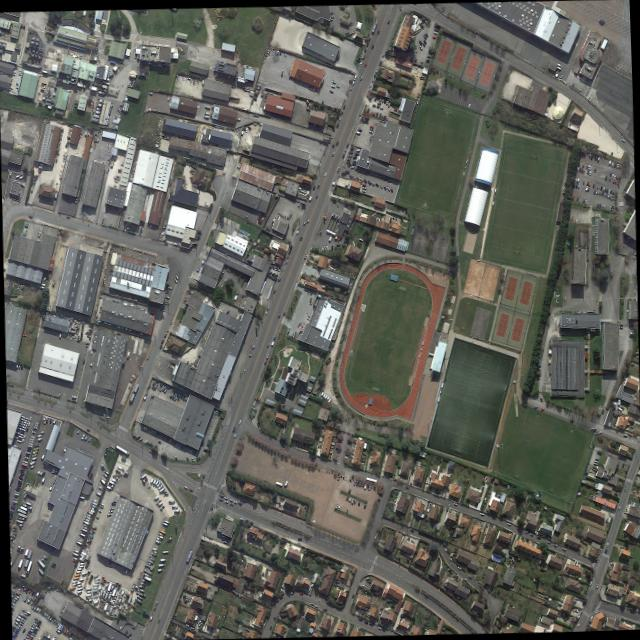large-vehicle: (113, 443, 128, 454), (82, 568, 89, 587), (130, 602, 140, 613), (133, 595, 142, 604), (364, 475, 376, 481), (185, 549, 191, 561), (370, 20, 376, 31), (109, 603, 115, 614), (102, 589, 108, 600), (36, 558, 43, 567), (134, 589, 144, 595), (106, 579, 111, 590), (16, 511, 25, 517), (16, 507, 25, 513), (142, 567, 151, 573), (105, 590, 111, 599), (108, 581, 114, 590), (26, 547, 31, 557), (126, 592, 131, 602), (113, 604, 118, 614), (105, 599, 110, 609), (134, 577, 139, 587), (103, 578, 108, 588), (115, 581, 120, 591), (100, 587, 105, 597), (114, 467, 121, 474), (141, 578, 149, 584), (23, 546, 28, 555), (128, 392, 133, 401), (110, 586, 115, 595), (107, 604, 112, 613), (116, 594, 121, 603), (129, 581, 134, 590), (98, 476, 104, 483), (15, 517, 22, 523), (17, 557, 21, 567), (102, 601, 107, 609), (18, 545, 23, 553), (139, 472, 145, 478), (139, 580, 145, 586), (138, 583, 144, 589), (135, 593, 141, 599), (98, 587, 102, 596), (146, 557, 152, 563), (121, 470, 127, 476), (79, 526, 86, 531), (74, 539, 81, 544), (16, 514, 23, 519), (22, 593, 27, 600), (326, 395, 331, 402), (167, 497, 174, 502), (116, 464, 123, 469), (137, 587, 144, 592), (170, 502, 177, 507), (41, 553, 46, 560), (98, 597, 102, 605), (99, 574, 103, 582), (117, 602, 121, 610), (15, 543, 19, 551), (37, 567, 42, 573), (28, 459, 34, 464), (152, 494, 158, 499), (158, 486, 164, 491), (157, 482, 162, 488), (155, 480, 160, 486), (153, 478, 158, 484), (151, 477, 156, 483), (108, 479, 114, 484), (105, 484, 111, 489), (49, 466, 54, 472), (143, 562, 149, 567), (40, 557, 45, 563), (89, 500, 96, 504), (85, 509, 92, 513), (81, 519, 88, 523), (77, 531, 84, 535), (70, 551, 77, 555), (23, 500, 30, 504), (307, 194, 311, 201), (360, 51, 364, 58), (120, 603, 124, 610), (84, 591, 91, 595), (122, 589, 126, 596), (113, 579, 117, 586), (149, 551, 156, 555), (125, 350, 129, 357), (555, 61, 560, 66), (156, 500, 161, 505), (114, 471, 119, 476), (154, 538, 159, 543), (89, 503, 95, 507), (87, 507, 93, 511), (94, 490, 100, 494), (85, 585, 91, 589), (73, 571, 79, 575), (72, 575, 78, 579), (68, 584, 74, 588), (283, 479, 287, 485), (322, 393, 326, 399), (327, 234, 331, 240), (319, 390, 323, 396), (40, 475, 44, 481), (30, 452, 36, 456), (31, 448, 37, 452), (32, 445, 38, 449), (37, 429, 43, 433), (203, 103, 209, 107), (112, 175, 118, 179), (149, 476, 153, 482), (127, 601, 131, 607), (92, 598, 98, 602), (91, 587, 97, 591), (110, 477, 116, 481), (143, 528, 147, 534), (158, 528, 164, 532), (157, 531, 163, 535), (142, 571, 148, 575), (120, 596, 124, 602), (117, 586, 121, 592), (41, 415, 44, 422), (113, 591, 116, 598), (78, 494, 83, 498), (84, 514, 89, 518), (83, 516, 88, 520), (82, 522, 87, 526), (72, 548, 77, 552), (24, 609, 29, 613), (46, 632, 50, 637), (76, 585, 81, 589), (80, 570, 85, 574), (71, 578, 76, 582), (71, 581, 76, 585), (38, 469, 42, 474), (36, 468, 40, 473), (31, 455, 36, 459), (39, 281, 44, 285), (39, 284, 44, 288), (14, 173, 19, 177), (203, 110, 208, 114), (92, 592, 97, 596), (86, 594, 91, 598), (85, 588, 90, 592), (92, 584, 97, 588), (162, 518, 167, 522), (161, 520, 166, 524), (155, 535, 159, 540), (148, 553, 153, 557), (148, 556, 153, 560), (44, 415, 47, 421), (51, 634, 54, 640), (48, 483, 51, 489), (40, 452, 43, 458), (93, 576, 99, 579), (93, 579, 99, 582), (173, 508, 179, 511), (92, 582, 98, 585), (123, 605, 126, 611), (97, 582, 100, 588), (120, 587, 123, 593), (156, 534, 162, 537), (148, 614, 151, 620), (157, 562, 163, 565), (159, 557, 165, 560), (161, 549, 167, 552), (200, 258, 204, 262), (29, 463, 33, 467), (18, 174, 22, 178), (93, 572, 97, 576), (151, 548, 155, 552), (85, 427, 89, 431), (85, 512, 90, 515), (37, 635, 40, 640), (35, 606, 38, 611), (76, 589, 81, 592), (76, 583, 81, 586), (78, 576, 83, 579), (78, 561, 83, 564), (77, 563, 82, 566), (76, 566, 81, 569), (75, 569, 80, 572), (321, 392, 324, 397), (325, 395, 328, 400), (270, 339, 273, 344), (36, 436, 41, 439), (36, 433, 41, 436), (142, 393, 145, 398), (111, 598, 114, 603), (87, 597, 92, 600), (156, 567, 161, 570), (151, 546, 156, 549), (70, 558, 75, 561), (76, 580, 80, 583), (71, 394, 75, 397), (331, 179, 334, 183), (194, 456, 197, 460), (202, 114, 207, 116), (58, 331, 60, 336)
small-vehicle: (160, 488, 166, 494), (80, 431, 85, 438), (418, 22, 423, 28), (555, 64, 560, 70), (615, 405, 621, 410), (154, 498, 160, 503), (162, 490, 167, 496), (15, 521, 21, 526), (17, 470, 23, 475), (111, 473, 117, 478), (13, 486, 19, 491), (335, 164, 339, 171), (599, 19, 604, 24), (478, 510, 483, 515), (619, 136, 624, 141), (15, 437, 20, 442), (560, 545, 565, 550), (622, 431, 627, 436), (532, 403, 537, 408), (588, 425, 593, 430), (29, 433, 34, 438), (456, 564, 461, 569), (36, 618, 41, 623), (158, 504, 163, 509), (20, 463, 25, 468), (144, 439, 149, 444), (142, 438, 147, 443), (33, 624, 38, 629), (15, 613, 20, 618), (33, 591, 38, 596), (544, 110, 548, 116), (570, 80, 574, 86), (595, 155, 599, 161), (375, 28, 379, 34), (62, 444, 66, 450), (41, 275, 45, 281), (83, 433, 87, 439), (371, 110, 375, 116), (380, 50, 384, 56), (377, 59, 381, 65), (350, 79, 354, 85), (352, 73, 356, 79), (358, 74, 362, 80), (357, 59, 361, 65), (334, 139, 338, 145), (334, 122, 338, 128), (575, 621, 579, 627), (385, 184, 389, 190), (105, 511, 111, 515), (117, 624, 121, 630), (123, 567, 127, 573), (31, 595, 35, 601), (53, 467, 57, 473), (81, 357, 85, 363), (162, 386, 166, 392), (160, 385, 164, 391), (158, 380, 162, 386), (86, 435, 90, 441), (232, 431, 236, 437), (231, 425, 235, 431), (32, 604, 36, 610), (25, 596, 29, 602), (507, 553, 511, 558), (510, 557, 514, 562), (634, 605, 638, 610), (597, 189, 601, 194), (505, 521, 510, 525), (417, 39, 421, 44), (423, 31, 427, 36), (430, 34, 435, 38), (432, 30, 437, 34), (423, 18, 427, 23), (573, 595, 578, 599), (609, 193, 613, 198), (611, 173, 615, 178), (71, 555, 76, 559), (357, 236, 362, 240), (75, 428, 79, 433), (364, 41, 368, 46), (20, 424, 25, 428), (15, 425, 20, 429), (16, 436, 21, 440), (12, 434, 17, 438), (12, 442, 16, 447), (31, 426, 36, 430), (30, 429, 35, 433), (33, 420, 38, 424), (22, 456, 27, 460), (21, 432, 25, 437), (377, 112, 381, 117), (368, 81, 372, 86), (366, 86, 370, 91), (357, 111, 361, 116), (294, 229, 298, 234), (301, 220, 305, 225), (315, 182, 319, 187), (340, 152, 344, 157), (355, 129, 360, 133), (329, 83, 334, 87), (322, 171, 326, 176), (330, 79, 335, 83), (572, 561, 577, 565), (600, 503, 605, 507), (619, 404, 623, 409), (631, 431, 636, 435), (568, 418, 573, 422), (591, 427, 595, 432), (17, 418, 22, 422), (382, 184, 386, 189), (388, 186, 392, 191), (313, 86, 317, 91), (311, 85, 315, 90), (350, 173, 354, 178), (354, 174, 358, 179), (358, 176, 362, 181), (366, 179, 370, 184), (362, 178, 366, 183), (197, 620, 201, 625), (360, 582, 364, 587), (313, 603, 318, 607), (107, 508, 112, 512), (425, 506, 429, 511), (466, 573, 470, 578), (330, 143, 334, 148), (445, 486, 449, 491), (342, 454, 347, 458), (357, 616, 362, 620), (362, 619, 367, 623), (278, 594, 282, 599), (122, 629, 127, 633), (339, 171, 343, 176), (341, 170, 345, 175), (29, 599, 33, 604), (112, 177, 117, 181), (111, 182, 116, 186), (135, 434, 139, 439), (342, 238, 347, 242), (345, 168, 349, 173), (425, 54, 430, 58), (420, 40, 424, 45), (384, 99, 388, 104), (386, 101, 390, 106), (184, 597, 189, 601), (196, 618, 200, 623), (189, 455, 193, 460), (173, 441, 177, 446), (167, 436, 171, 441), (159, 338, 163, 343), (276, 311, 280, 316), (271, 288, 275, 293), (267, 269, 271, 274), (270, 271, 275, 275), (173, 277, 177, 282), (162, 331, 166, 336), (148, 442, 153, 446), (49, 561, 53, 566), (51, 562, 55, 567), (16, 477, 21, 481), (17, 475, 22, 479), (18, 468, 23, 472), (19, 466, 24, 470), (23, 454, 28, 458), (26, 443, 31, 447), (103, 468, 107, 473), (102, 471, 106, 476), (97, 484, 101, 489), (15, 482, 20, 486), (16, 480, 21, 484), (13, 489, 18, 493), (11, 496, 16, 500), (11, 498, 16, 502), (35, 622, 39, 627), (21, 627, 25, 632), (13, 616, 18, 620), (12, 619, 17, 623), (265, 341, 269, 346), (153, 599, 157, 604), (203, 298, 208, 302), (144, 256, 148, 261), (202, 200, 206, 205), (147, 90, 152, 94), (217, 496, 222, 500), (216, 410, 220, 415), (255, 421, 259, 426), (241, 367, 245, 372), (236, 501, 241, 505), (54, 627, 59, 631), (38, 608, 42, 613), (585, 168, 588, 174), (413, 56, 416, 62), (572, 181, 575, 187), (574, 181, 577, 187), (607, 204, 610, 210), (584, 184, 587, 190), (575, 176, 578, 182), (603, 174, 606, 180), (615, 162, 618, 168), (612, 161, 615, 167), (67, 325, 70, 331), (19, 363, 22, 369), (367, 108, 370, 114), (372, 71, 375, 77), (311, 184, 314, 190), (330, 150, 333, 156), (337, 115, 340, 121), (603, 547, 606, 553), (588, 579, 591, 585), (83, 128, 86, 134), (356, 499, 359, 505), (352, 497, 355, 503), (350, 496, 353, 502), (347, 495, 350, 501), (306, 586, 309, 592), (367, 483, 370, 489), (362, 482, 365, 488), (350, 473, 353, 479), (177, 442, 180, 448), (10, 474, 13, 480), (8, 170, 11, 176), (213, 408, 216, 414), (237, 417, 240, 423), (250, 343, 253, 349), (515, 525, 519, 529), (528, 531, 532, 535), (535, 534, 539, 538), (577, 86, 581, 90), (573, 607, 577, 611), (51, 418, 55, 422), (17, 420, 21, 424), (20, 426, 24, 430), (17, 433, 21, 437), (33, 422, 37, 426), (368, 126, 372, 130), (19, 416, 23, 420), (545, 538, 549, 542), (552, 542, 556, 546), (539, 406, 543, 410), (597, 429, 601, 433), (592, 460, 596, 464), (304, 98, 308, 102), (348, 149, 352, 153), (373, 172, 377, 176), (309, 601, 313, 605), (309, 582, 313, 586), (274, 597, 278, 601), (99, 501, 103, 505), (98, 503, 102, 507), (97, 508, 101, 512), (463, 576, 467, 580), (572, 598, 576, 602), (635, 519, 639, 523), (346, 439, 350, 443), (380, 626, 384, 630), (248, 520, 252, 524), (130, 624, 134, 628), (427, 50, 431, 54), (36, 620, 40, 624), (115, 172, 119, 176), (235, 164, 239, 168), (272, 632, 276, 636), (28, 438, 32, 442), (168, 393, 172, 397), (170, 394, 174, 398), (172, 395, 176, 399), (147, 441, 151, 445), (281, 309, 285, 313), (276, 276, 280, 280), (273, 272, 277, 276), (9, 505, 13, 509), (17, 473, 21, 477), (24, 452, 28, 456), (10, 503, 14, 507), (138, 435, 142, 439), (147, 448, 151, 452), (146, 483, 150, 487), (13, 491, 17, 495), (243, 213, 247, 217), (28, 635, 32, 639), (29, 633, 33, 637), (17, 611, 21, 615), (18, 620, 22, 624), (19, 618, 23, 622), (20, 616, 24, 620), (21, 614, 25, 618), (23, 611, 27, 615), (22, 636, 26, 640), (25, 631, 29, 635), (28, 627, 32, 631), (184, 622, 188, 626), (11, 633, 15, 637), (13, 629, 17, 633), (14, 627, 18, 631), (31, 620, 35, 624), (223, 498, 227, 502), (223, 495, 227, 499), (183, 484, 187, 488), (188, 487, 192, 491), (575, 165, 578, 170), (577, 166, 580, 171), (592, 188, 595, 193), (594, 188, 597, 193), (600, 189, 603, 194), (602, 191, 605, 196), (606, 187, 609, 192), (604, 187, 607, 192), (602, 186, 605, 191), (598, 185, 601, 190), (590, 182, 593, 187), (586, 185, 589, 190), (386, 18, 389, 23), (407, 55, 410, 60), (419, 59, 422, 64), (418, 44, 421, 49), (466, 102, 469, 107), (513, 513, 516, 518), (608, 561, 613, 564), (586, 163, 589, 168), (588, 165, 591, 170), (592, 166, 595, 171), (582, 151, 585, 156), (587, 152, 590, 157), (589, 154, 592, 159), (593, 155, 596, 160), (570, 194, 573, 199), (575, 195, 578, 200), (597, 202, 600, 207), (606, 192, 609, 197), (611, 177, 614, 182), (613, 178, 616, 183), (614, 174, 617, 179), (579, 167, 582, 172), (608, 171, 611, 176), (585, 180, 588, 185), (581, 179, 584, 184), (576, 182, 579, 187), (610, 172, 613, 177), (581, 167, 584, 172), (580, 162, 583, 167), (618, 163, 621, 168), (609, 161, 612, 166), (607, 159, 610, 164), (607, 175, 610, 180), (370, 43, 373, 48), (366, 36, 369, 41), (19, 414, 24, 417), (88, 360, 91, 365), (89, 349, 92, 354), (50, 313, 55, 316), (354, 147, 359, 150), (324, 244, 327, 249), (322, 244, 325, 249), (26, 420, 29, 425), (14, 430, 19, 433), (24, 425, 27, 430), (303, 253, 306, 258), (296, 224, 299, 229), (298, 235, 301, 240), (374, 111, 377, 116), (369, 110, 372, 115), (374, 66, 377, 71), (370, 76, 373, 81), (365, 91, 368, 96), (339, 109, 342, 114), (341, 104, 344, 109), (348, 85, 351, 90), (363, 61, 366, 66), (382, 114, 385, 119), (323, 214, 326, 219), (305, 218, 308, 223), (367, 129, 372, 132), (343, 146, 346, 151), (345, 142, 348, 147), (601, 203, 604, 208), (583, 198, 586, 203), (616, 505, 619, 510), (604, 516, 607, 521), (600, 408, 603, 413), (628, 330, 633, 333), (538, 395, 541, 400), (622, 485, 625, 490), (374, 181, 377, 186), (378, 182, 381, 187), (320, 98, 323, 103), (309, 84, 312, 89), (307, 83, 310, 88), (240, 125, 243, 130), (239, 129, 242, 134), (242, 125, 245, 130), (351, 155, 356, 158), (381, 176, 386, 179), (362, 170, 367, 173), (370, 180, 373, 185), (313, 461, 316, 466), (344, 494, 347, 499), (344, 507, 347, 512), (336, 504, 339, 509), (334, 503, 337, 508), (272, 614, 275, 619), (268, 624, 271, 629), (362, 502, 365, 507), (330, 466, 333, 471), (336, 474, 339, 479), (389, 621, 392, 626), (427, 501, 430, 506), (408, 527, 413, 530), (357, 480, 360, 485), (352, 479, 355, 484), (343, 451, 348, 454), (296, 536, 301, 539), (280, 583, 283, 588), (126, 632, 131, 635), (174, 72, 177, 77), (343, 169, 346, 174), (422, 38, 425, 43), (343, 31, 348, 34), (330, 24, 333, 29), (378, 95, 381, 100), (380, 96, 383, 101), (382, 98, 385, 103), (157, 386, 160, 391), (153, 429, 156, 434), (158, 343, 161, 348), (263, 309, 266, 314), (265, 305, 268, 310), (270, 263, 273, 268), (288, 244, 291, 249), (273, 264, 276, 269), (275, 265, 278, 270), (285, 253, 288, 258), (283, 258, 286, 263), (174, 273, 177, 278), (166, 285, 171, 288), (168, 318, 171, 323), (150, 428, 153, 433), (60, 578, 63, 583), (24, 450, 29, 453), (25, 448, 30, 451), (27, 441, 32, 444), (8, 508, 13, 511), (144, 425, 147, 430), (142, 425, 145, 430), (12, 494, 17, 497), (296, 201, 299, 206), (272, 334, 275, 339), (195, 265, 198, 270), (148, 222, 151, 227), (195, 199, 198, 204), (204, 201, 207, 206), (175, 92, 180, 95), (73, 197, 76, 202), (227, 497, 232, 500), (253, 407, 256, 412), (67, 636, 72, 639), (55, 621, 58, 626), (40, 610, 43, 615), (30, 603, 33, 608), (27, 588, 30, 593), (523, 529, 527, 532), (601, 185, 604, 189), (594, 184, 597, 188), (537, 558, 540, 562), (573, 177, 576, 181), (409, 56, 412, 60), (425, 56, 429, 59), (433, 28, 437, 31), (558, 73, 561, 77), (484, 522, 487, 526), (609, 151, 612, 155), (581, 198, 584, 202), (595, 202, 598, 206), (587, 181, 590, 185), (584, 164, 587, 168), (24, 415, 27, 419), (27, 415, 30, 419), (41, 313, 44, 317), (16, 423, 20, 426), (18, 432, 22, 435), (15, 445, 19, 448), (20, 437, 23, 441), (32, 425, 36, 428), (22, 459, 26, 462), (379, 114, 382, 118), (384, 115, 387, 119), (328, 88, 332, 91), (314, 194, 317, 198), (368, 124, 372, 127), (335, 83, 339, 86), (605, 541, 608, 545), (573, 559, 577, 562), (619, 544, 623, 547), (628, 424, 632, 427), (594, 457, 598, 460), (593, 459, 597, 462), (620, 462, 623, 466), (348, 173, 351, 177), (361, 185, 365, 188), (361, 188, 365, 191), (245, 88, 249, 91), (252, 121, 256, 124), (235, 116, 239, 119), (230, 84, 234, 87), (361, 182, 365, 185), (108, 506, 112, 509), (346, 162, 350, 165), (345, 160, 349, 163), (351, 161, 355, 164), (351, 158, 355, 161), (345, 157, 349, 160), (353, 151, 357, 154), (349, 146, 352, 150), (386, 178, 390, 181), (377, 174, 381, 177), (368, 171, 372, 174), (358, 168, 362, 171), (349, 164, 353, 167), (365, 575, 369, 578), (350, 593, 353, 597), (296, 540, 300, 543), (322, 607, 326, 610), (288, 590, 292, 593), (94, 515, 98, 518), (377, 609, 380, 613), (376, 625, 380, 628), (452, 501, 456, 504), (404, 484, 408, 487), (443, 546, 446, 550), (448, 556, 451, 560), (371, 103, 375, 106), (375, 104, 379, 107), (379, 105, 382, 109), (442, 486, 445, 490), (424, 478, 427, 482), (376, 101, 380, 104), (108, 221, 111, 225), (362, 117, 365, 121), (281, 403, 284, 407), (274, 498, 277, 502), (422, 34, 425, 38), (329, 14, 333, 17), (328, 11, 332, 14), (393, 107, 397, 110), (393, 105, 397, 108), (202, 447, 206, 450), (173, 454, 176, 458), (185, 456, 188, 460), (156, 439, 160, 442), (145, 354, 148, 358), (287, 249, 290, 253), (164, 294, 168, 297), (189, 625, 193, 628), (26, 446, 30, 449), (11, 501, 15, 504), (15, 485, 19, 488), (14, 594, 18, 597), (31, 631, 34, 635), (21, 607, 24, 611), (16, 625, 19, 629), (24, 634, 28, 637), (27, 637, 31, 640), (13, 596, 17, 599), (12, 598, 15, 602), (152, 605, 155, 609), (125, 225, 129, 228), (65, 214, 69, 217), (13, 632, 16, 636), (30, 622, 33, 626), (32, 618, 35, 622), (33, 615, 36, 619), (228, 501, 232, 504), (222, 539, 226, 542), (251, 412, 254, 416), (250, 405, 253, 409), (247, 352, 250, 356), (232, 499, 236, 502), (239, 516, 243, 519), (42, 611, 45, 615), (53, 636, 56, 640), (54, 619, 57, 623), (52, 618, 55, 622), (48, 615, 51, 619), (46, 614, 49, 618), (44, 613, 47, 617), (37, 607, 40, 611), (22, 586, 25, 590), (30, 594, 33, 598), (220, 534, 224, 537), (609, 188, 611, 193), (611, 189, 613, 194), (48, 416, 50, 421), (17, 363, 19, 368), (330, 244, 332, 249), (320, 245, 322, 250), (595, 582, 597, 587), (244, 126, 246, 131), (353, 167, 358, 169), (376, 94, 378, 99), (173, 391, 175, 396), (179, 393, 181, 398), (181, 394, 183, 399), (163, 433, 165, 438), (166, 94, 168, 99), (21, 285, 23, 290), (263, 358, 265, 363), (265, 352, 267, 357), (598, 18, 601, 21), (618, 325, 621, 328), (618, 322, 621, 325), (347, 153, 350, 156), (368, 621, 371, 624), (17, 624, 20, 627), (29, 625, 32, 628), (54, 637, 57, 640), (244, 519, 247, 522), (630, 624, 632, 628), (596, 189, 598, 193), (604, 192, 606, 196), (600, 203, 602, 207), (608, 193, 610, 197), (21, 333, 25, 335), (335, 243, 339, 245), (574, 218, 576, 222), (628, 334, 632, 336), (111, 499, 115, 501), (110, 501, 114, 503), (373, 534, 375, 538), (355, 480, 357, 484), (360, 610, 364, 612), (261, 571, 263, 575), (197, 455, 199, 459), (277, 501, 279, 505), (328, 24, 330, 28), (172, 390, 174, 394), (175, 392, 177, 396), (177, 393, 179, 397), (268, 264, 270, 268), (185, 76, 189, 78), (288, 405, 290, 409), (84, 343, 87, 345), (629, 326, 632, 328), (298, 591, 301, 593), (329, 17, 332, 19), (57, 639, 59, 640)
